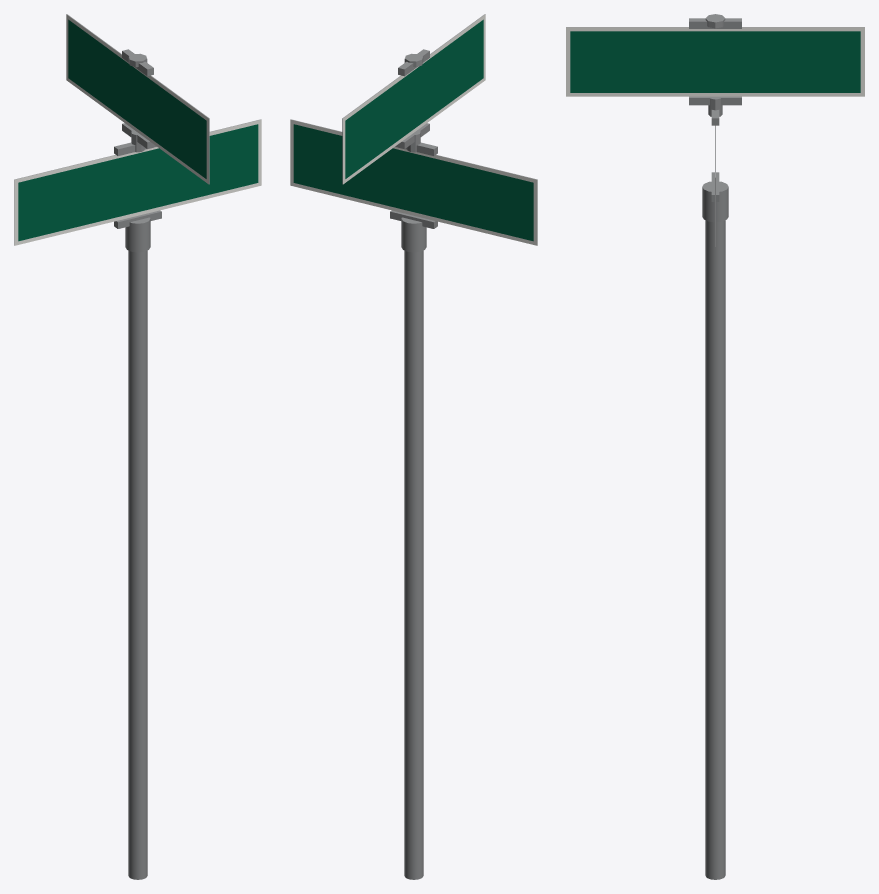
Rendered from tf_street_name_sign.glb.
3 views of the same model, side by side, from view 1: azimuth 30°, elevation 25°; view 2: azimuth 150°, elevation 25°; view 3: azimuth 270°, elevation 25° (orthographic). The views are drawn at different scales.
Visible parts, largest first — view 1: blade_A_fieldB, post, blade_B_fieldF, blade_A_plate, blade_B_plate, bracket_collar; view 2: blade_A_fieldF, post, blade_B_fieldF, blade_A_plate, blade_B_plate, bracket_collar; view 3: blade_B_fieldB, post, blade_B_plate, bracket_collar.
Part boxes in pixels (box(x1,y1,x2,y2)): blade_A_fieldB: box(18, 124, 258, 241); post: box(128, 250, 147, 879); blade_B_fieldF: box(68, 19, 206, 178); blade_A_plate: box(14, 119, 261, 245); blade_B_plate: box(66, 14, 209, 184); bracket_collar: box(125, 217, 150, 252); blade_A_fieldF: box(293, 124, 533, 241); post: box(404, 250, 423, 879); blade_B_fieldF: box(345, 19, 483, 178); blade_A_plate: box(290, 119, 537, 245); blade_B_plate: box(342, 14, 485, 184); bracket_collar: box(401, 217, 426, 252); blade_B_fieldB: box(570, 31, 860, 92); post: box(705, 220, 725, 879); blade_B_plate: box(566, 27, 864, 96); bracket_collar: box(702, 181, 728, 222).
Size of what is drawn, in the model's own units: 0.9 by 2.85 by 0.9.
